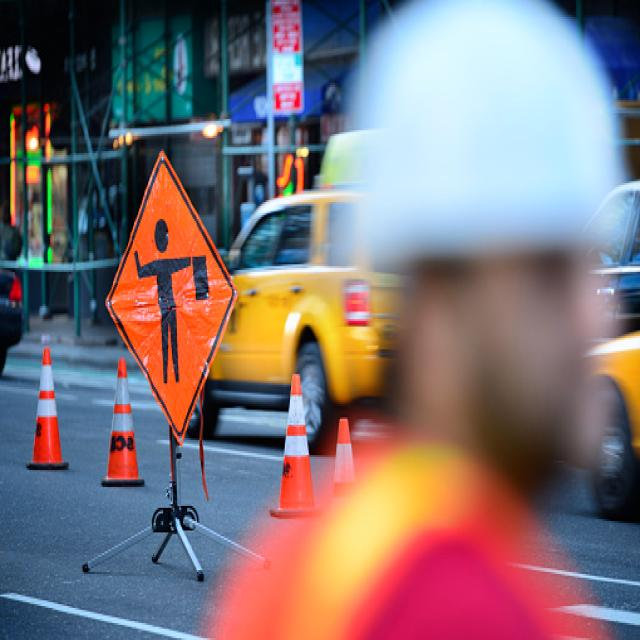cone: (270, 374, 326, 518), (100, 358, 145, 486), (26, 348, 68, 472), (330, 420, 358, 510)
